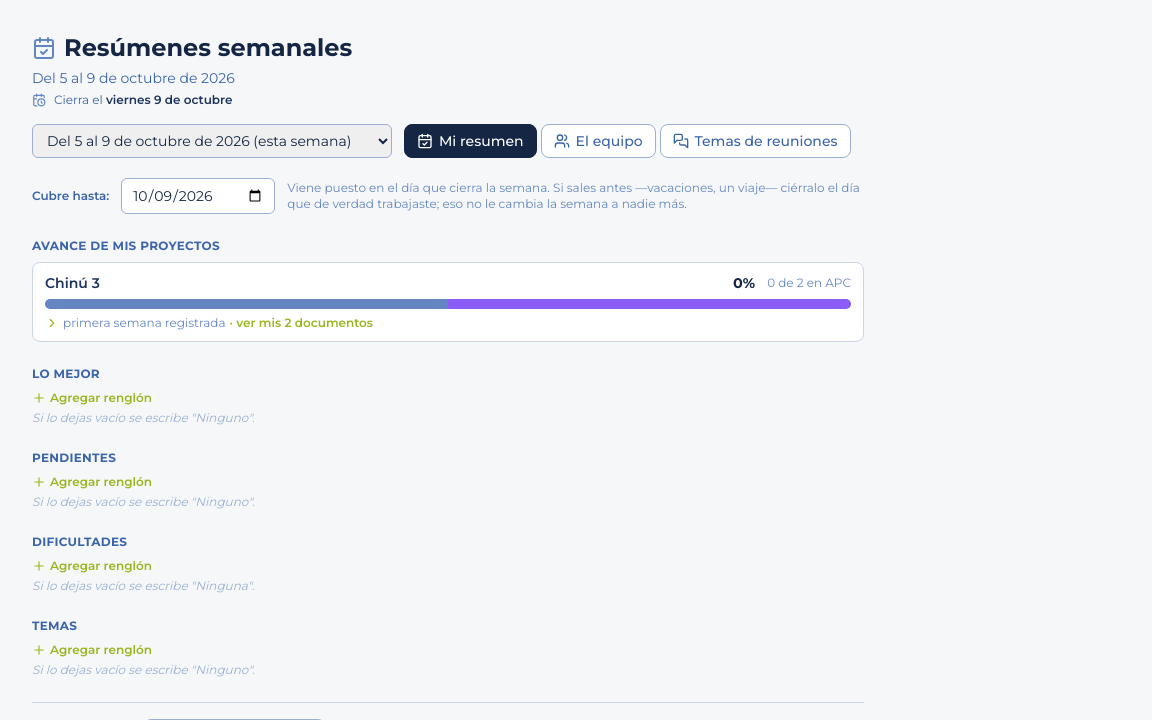
Scenario: la vista del equipo › dice quién ya envió y quién no
The image size is (1152, 720).
Step 1. Click the button "El equipo" → (598, 141), box [541, 124, 656, 158]
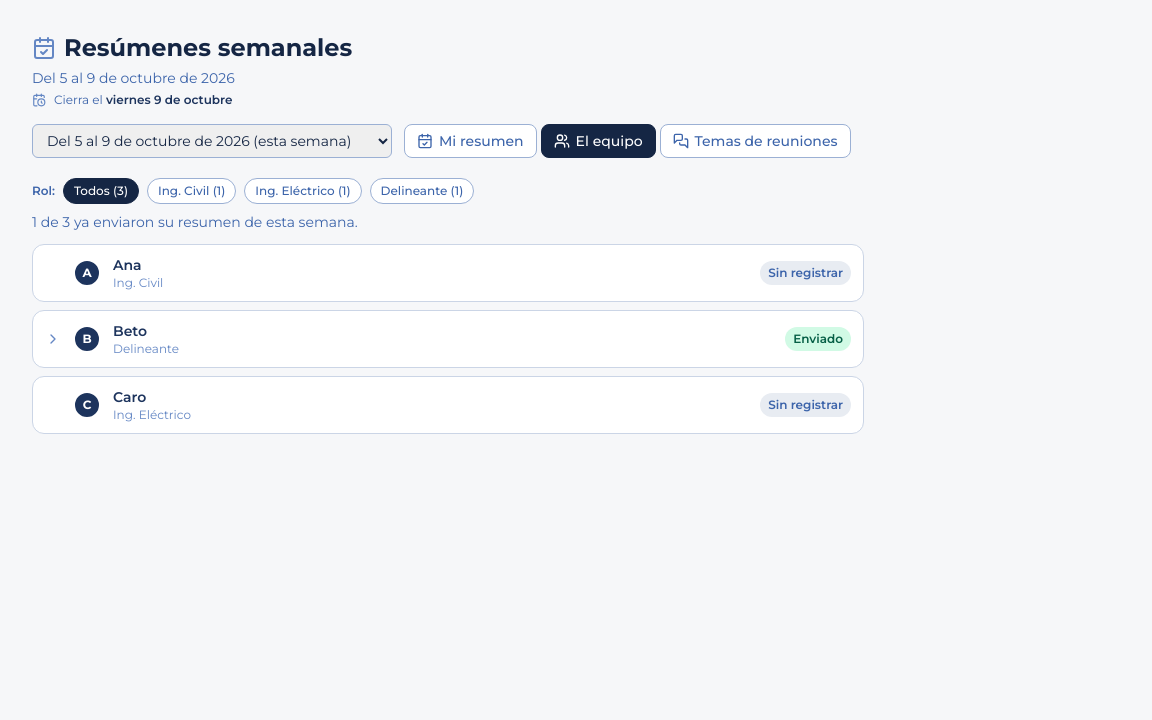
Now the text "1 de 3 ya enviaron su resumen de esta semana." is shown, box [32, 213, 358, 231]
Now the text "Enviado" is shown, box [785, 327, 851, 351]
Now the text "Sin registrar" is shown 2 times, box [760, 261, 851, 285]; [760, 393, 851, 417]
